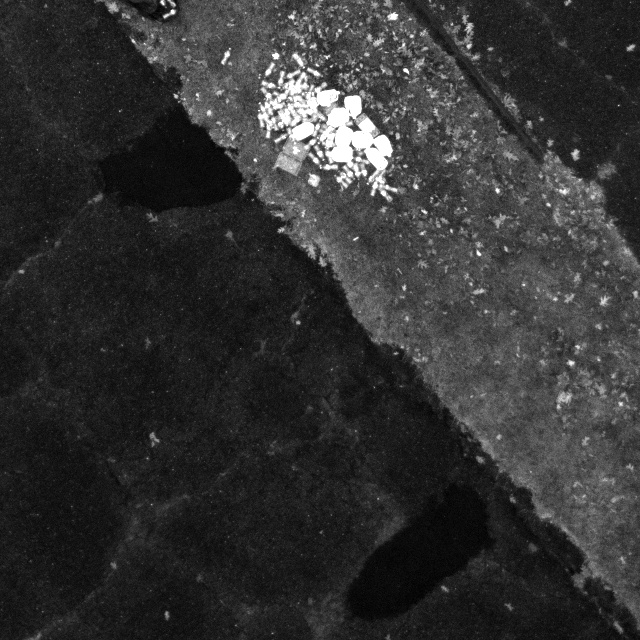bottle: (304, 64, 325, 79), (340, 163, 357, 180), (376, 187, 394, 203), (337, 169, 354, 185), (219, 47, 234, 65), (292, 52, 307, 70), (375, 168, 388, 188), (260, 78, 280, 91), (312, 82, 328, 98), (286, 105, 302, 121), (275, 70, 287, 91), (257, 101, 270, 120), (332, 173, 348, 188), (304, 137, 319, 153), (274, 132, 292, 145), (320, 125, 333, 143), (367, 169, 379, 188), (259, 87, 274, 102), (307, 151, 322, 166), (312, 108, 327, 123), (313, 144, 326, 161), (351, 156, 371, 167), (287, 115, 303, 128), (255, 106, 264, 129), (264, 62, 276, 79), (319, 164, 341, 173), (303, 84, 315, 100), (294, 72, 306, 88), (286, 69, 303, 80), (296, 108, 310, 121), (276, 110, 288, 125), (264, 121, 273, 140), (382, 184, 399, 194), (287, 79, 296, 97), (359, 164, 369, 180), (296, 95, 308, 108), (370, 180, 379, 197), (377, 178, 387, 193), (272, 103, 286, 111)
can: (362, 146, 391, 171), (372, 135, 397, 160), (289, 121, 317, 142), (343, 94, 364, 121), (325, 145, 354, 164), (325, 107, 349, 129), (316, 88, 342, 107), (352, 129, 374, 151), (334, 126, 353, 149)
container: (272, 137, 311, 178), (354, 112, 382, 140), (305, 174, 323, 188), (323, 101, 339, 115), (306, 96, 319, 110)
